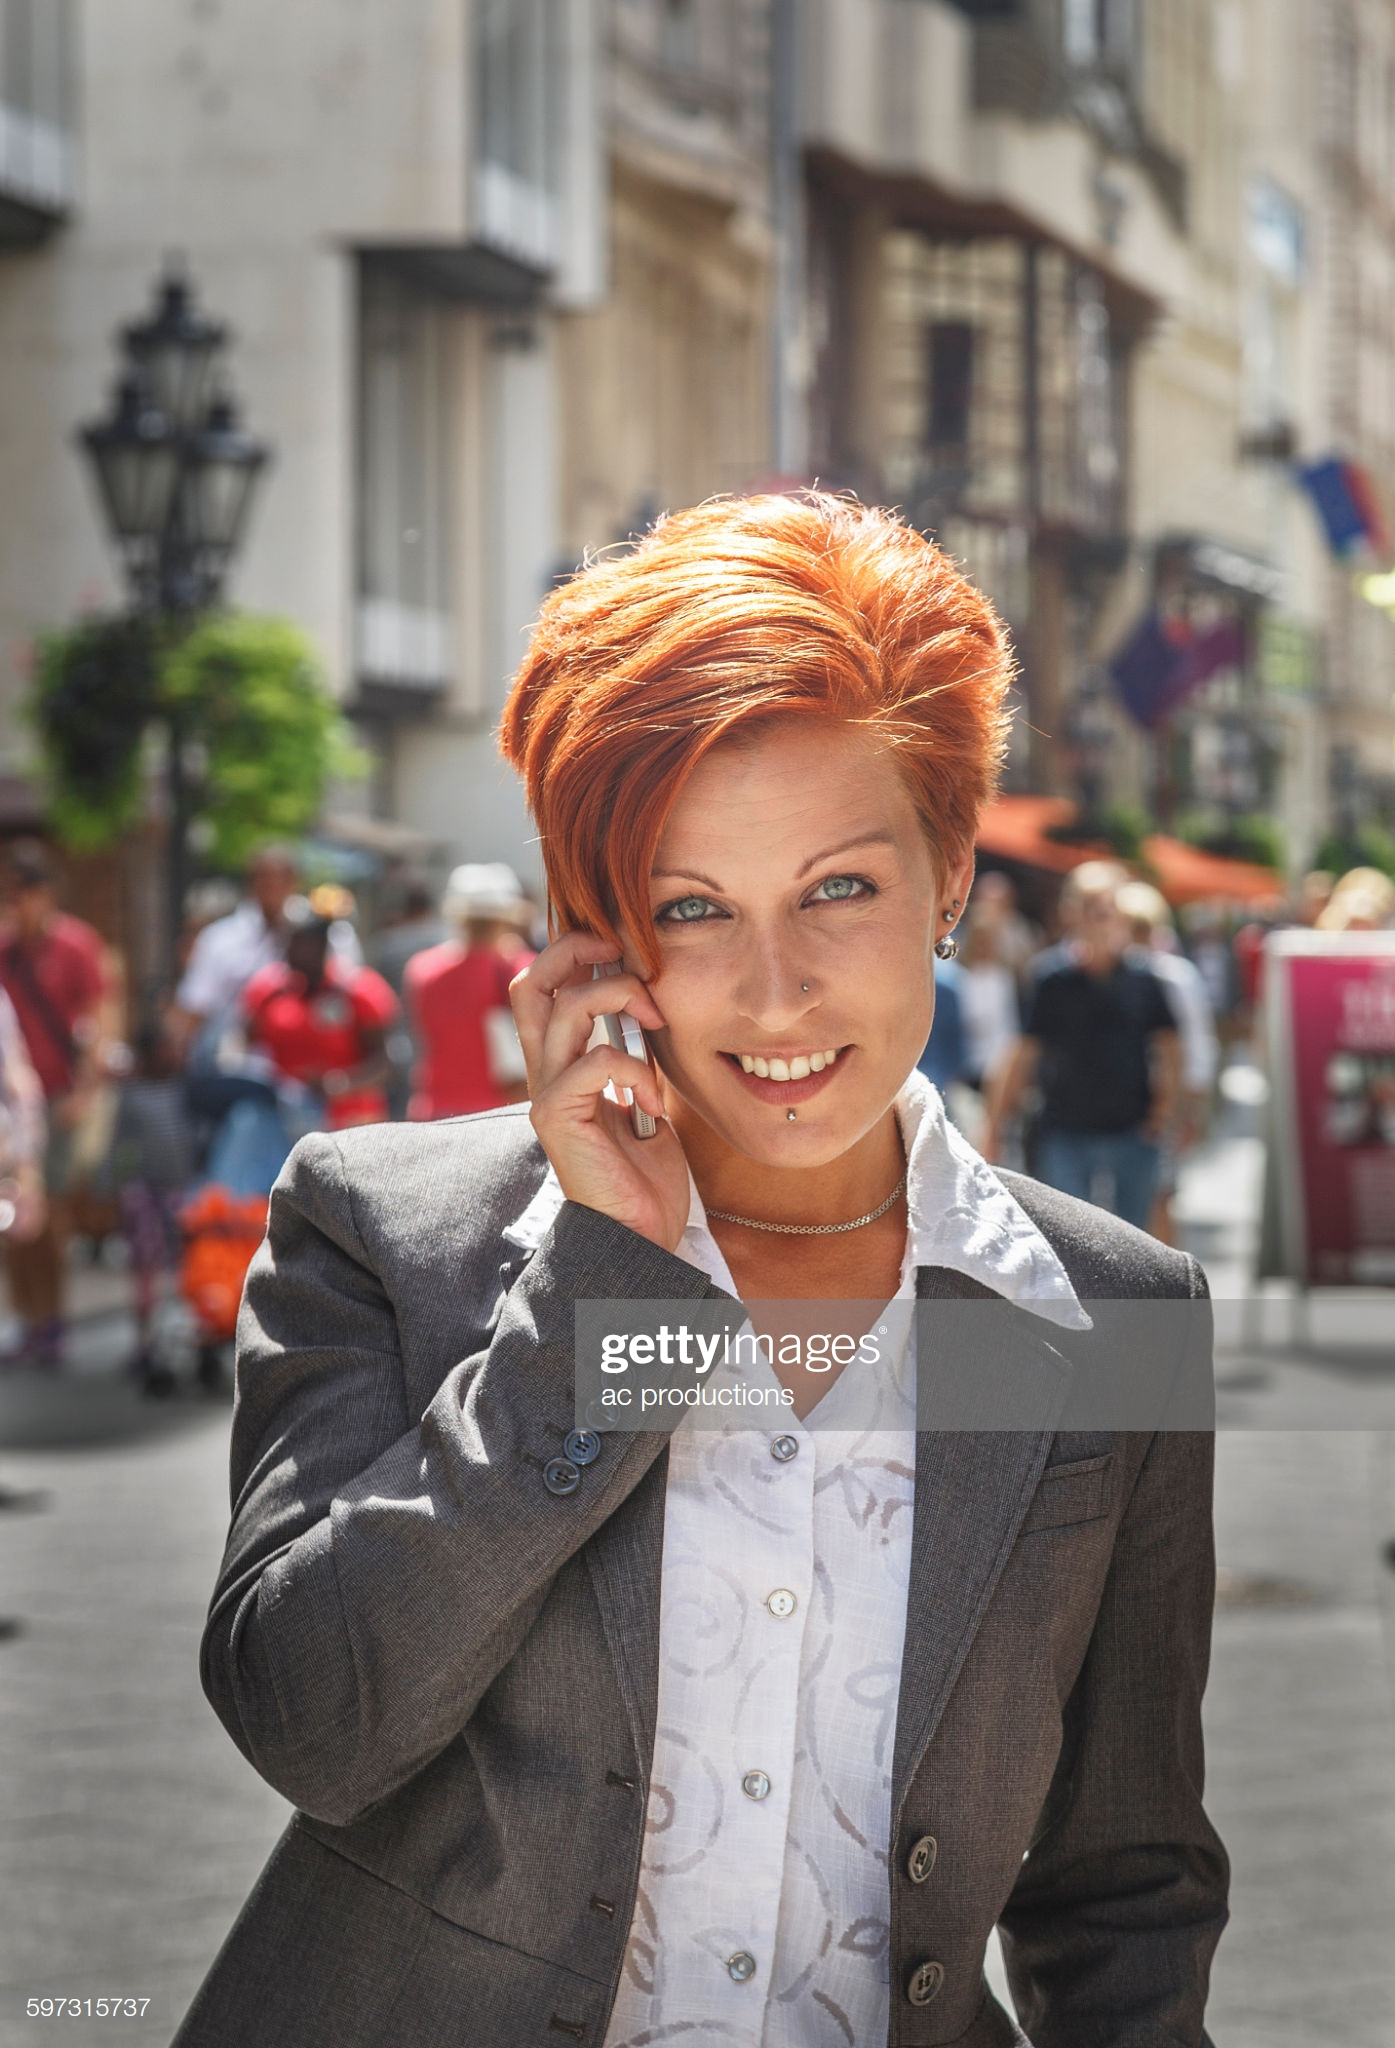phone: (498, 906, 691, 1172)
talk: (500, 820, 943, 1242)
